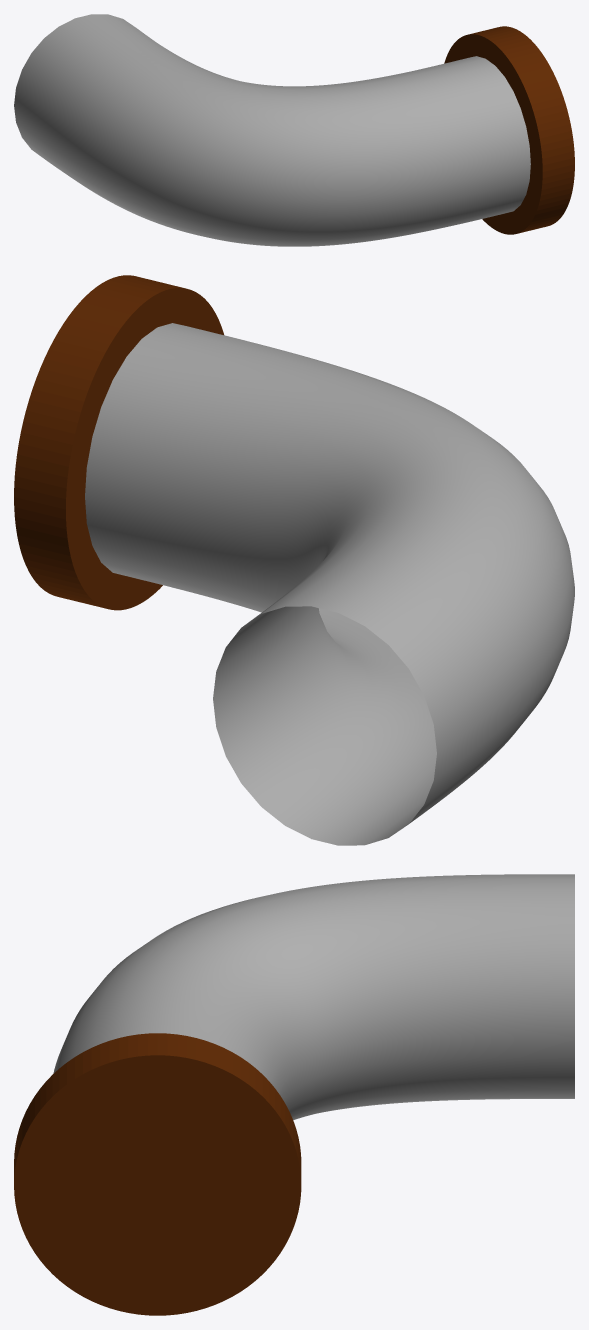
File: PipesCorner.glb
The picture shows the model from 3 angles, top to bottom: view 1: azimuth 30°, elevation 25°; view 2: azimuth 150°, elevation 25°; view 3: azimuth 270°, elevation 25°; orthographic projection. The views are drawn at different scales.
Parts seen in each view (by area): view 1: NurbsPath.001, Cylinder.001; view 2: NurbsPath.001, Cylinder.001; view 3: NurbsPath.001, Cylinder.001.
Boxes of the visible parts, bbox=[...] form: NurbsPath.001: bbox=[14, 14, 530, 246]; Cylinder.001: bbox=[444, 26, 574, 234]; NurbsPath.001: bbox=[85, 323, 574, 845]; Cylinder.001: bbox=[14, 275, 223, 610]; NurbsPath.001: bbox=[53, 874, 574, 1119]; Cylinder.001: bbox=[14, 1033, 301, 1315].
Bounding box in the file's own units: 2.8 × 1.38 × 2.69.
